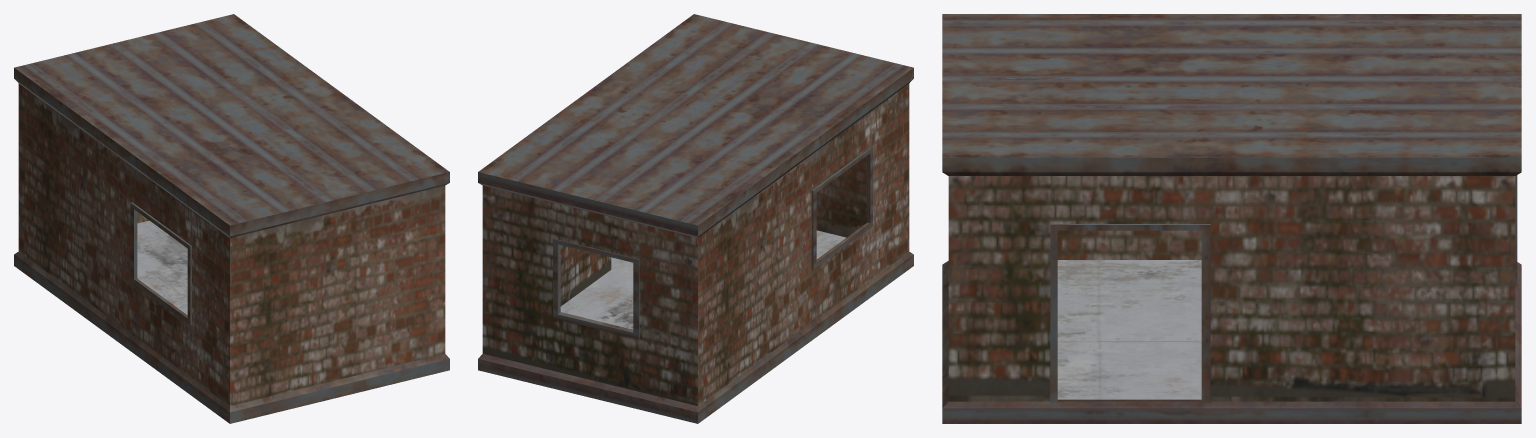
Rendered from open building 2.gltf.
3 renders of one model, left to right at view 1: azimuth 30°, elevation 25°; view 2: azimuth 150°, elevation 25°; view 3: azimuth 270°, elevation 25°, orthographic. The views are drawn at different scales.
Parts seen in each view (by area): view 1: Cube; view 2: Cube; view 3: Cube.
Part boxes in pixels (x1,y1,x2,y2): Cube: (14,14,449,423); Cube: (478,14,913,423); Cube: (942,14,1521,423).
Size of the model in its own units: 25.55 by 22.03 by 43.45.
3 materials, 3 textured.
